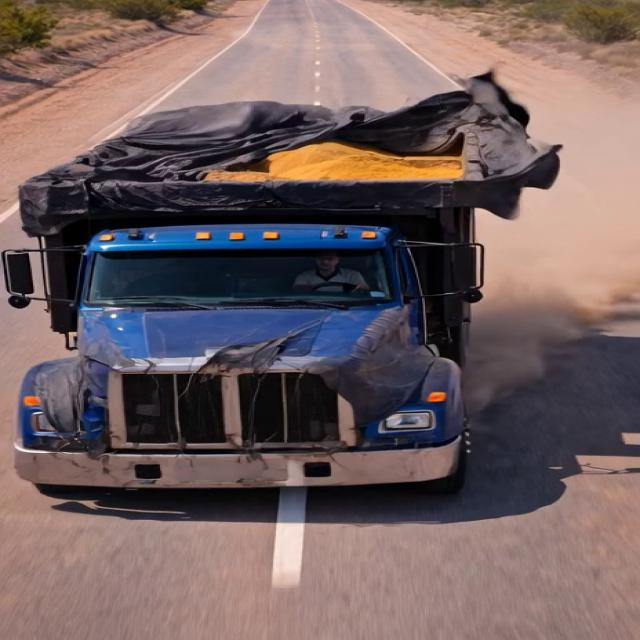trailer: (12, 45, 574, 244)
truck: (5, 24, 615, 493)
